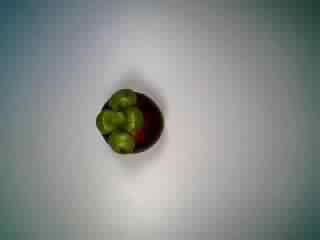mangosteen: (89, 84, 167, 159)
